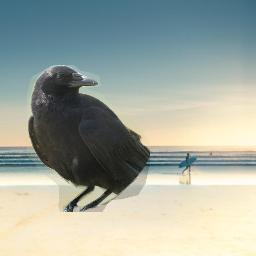Crow: (27, 65, 150, 212)
